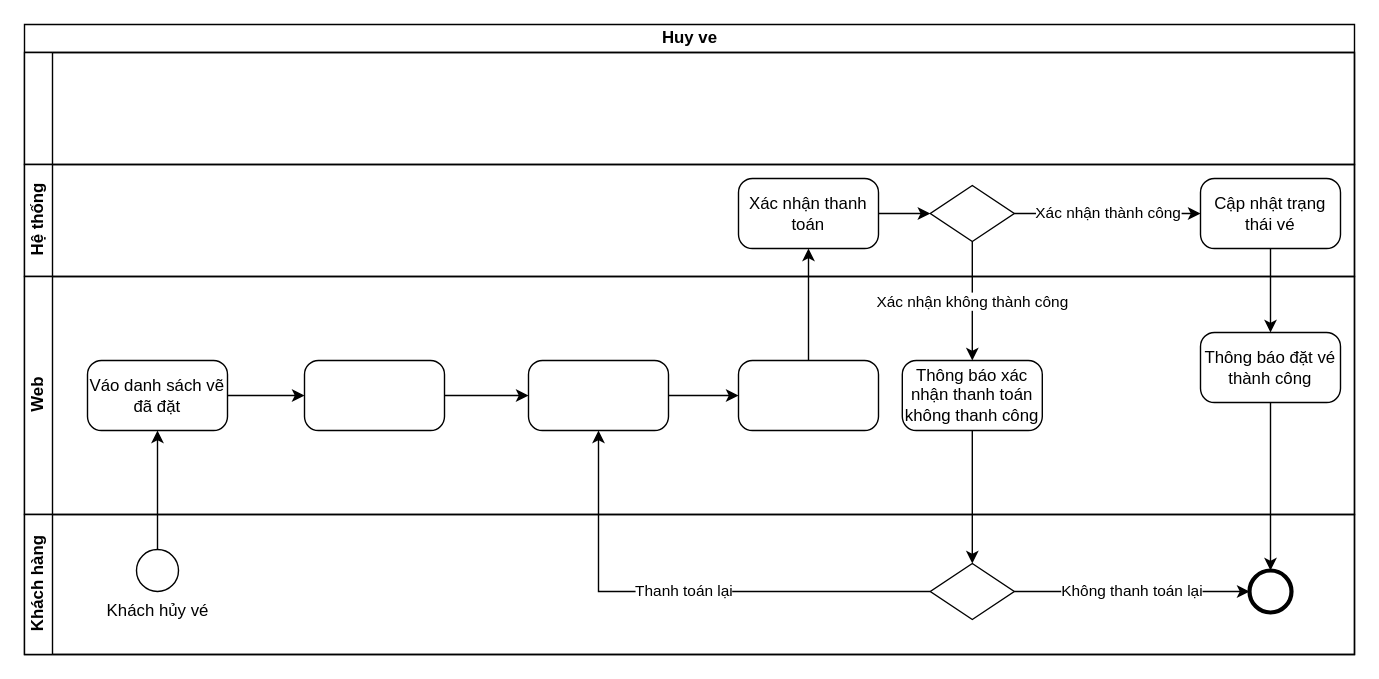
This 1379x679 diagram has some shape labels left out. The shapes that lost their labels are listed below. From the top down, each one's centre as x and y in pixels, then its label:
At (688,107): "Nhân viên".
At (373,394): "Chọn vé thanh toán".
At (597,394): "Chọn chọn phương thức thanh toán".
At (807,394): "Thanh toán".
At (1270,590): "Kết thúc".
